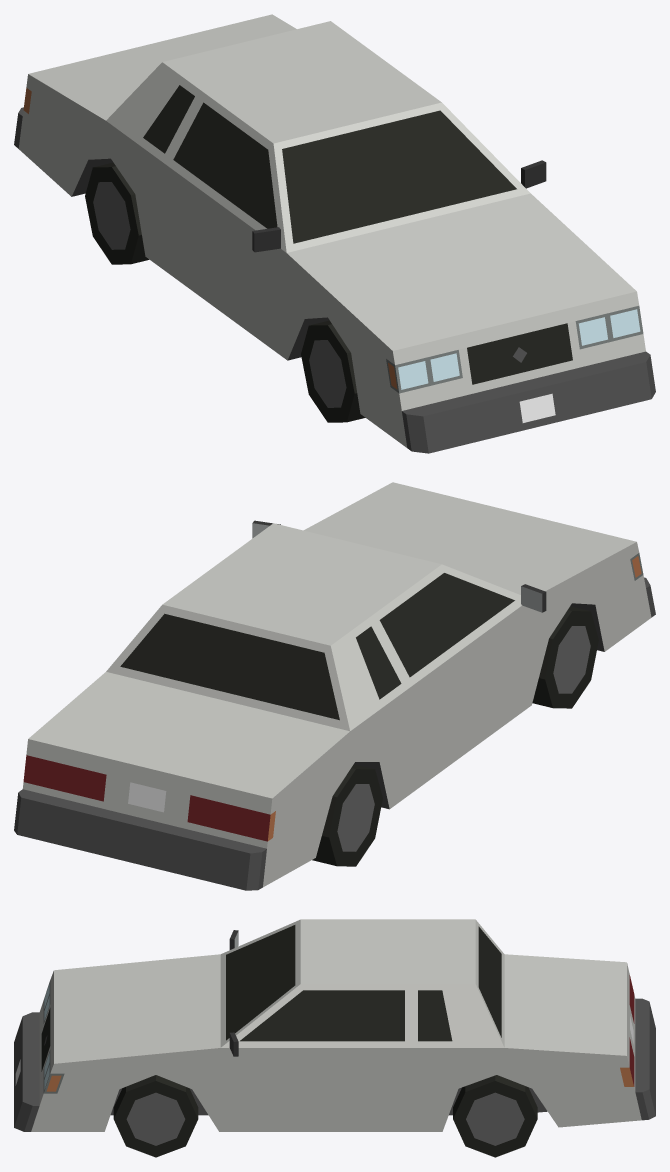
Rendered from Veh_Coupe_03_White.obj.
3 views of the same model, one above another, from view 1: azimuth 30°, elevation 25°; view 2: azimuth 150°, elevation 25°; view 3: azimuth 270°, elevation 25° (orthographic). The views are drawn at different scales.
Size of the model in its own units: 1.14 by 0.7543 by 2.76.
